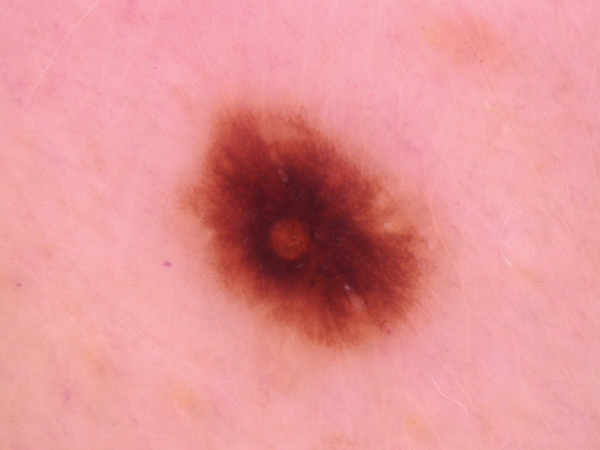Detected Lesion: (178, 94, 433, 358)
